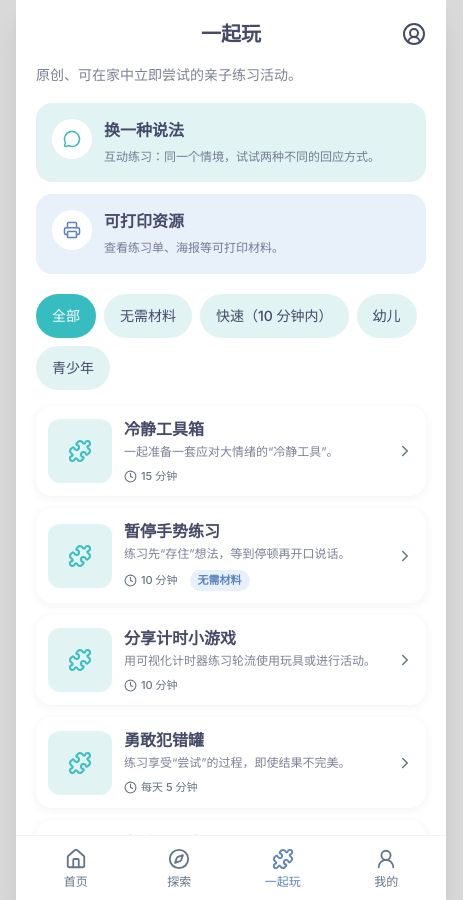
Test case: Activities page filters › narrows the list to no-materials activities
Click the button "无需材料" at (148, 316), box [104,294,192,338]
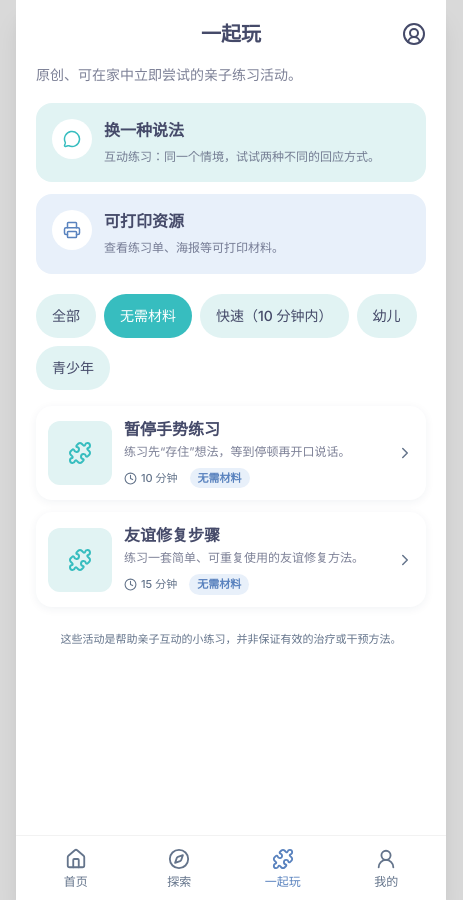
Expected: the link "冷静工具箱" is gone
Expected: the link "分享计时小游戏" is gone
Expected: the link "勇敢犯错罐" is gone
